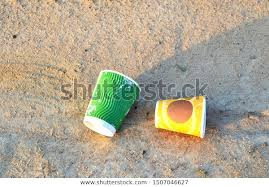paper_cup: (84, 69, 142, 139), (156, 95, 207, 140)
